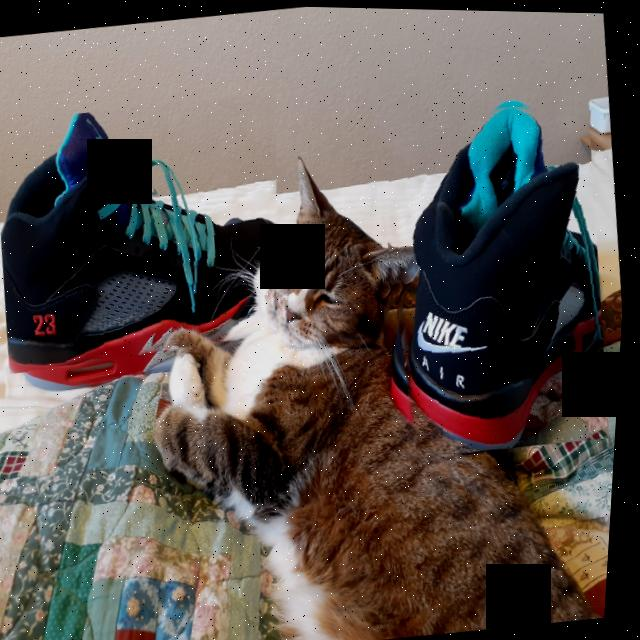shoe: (355, 85, 631, 461), (0, 88, 308, 379)
